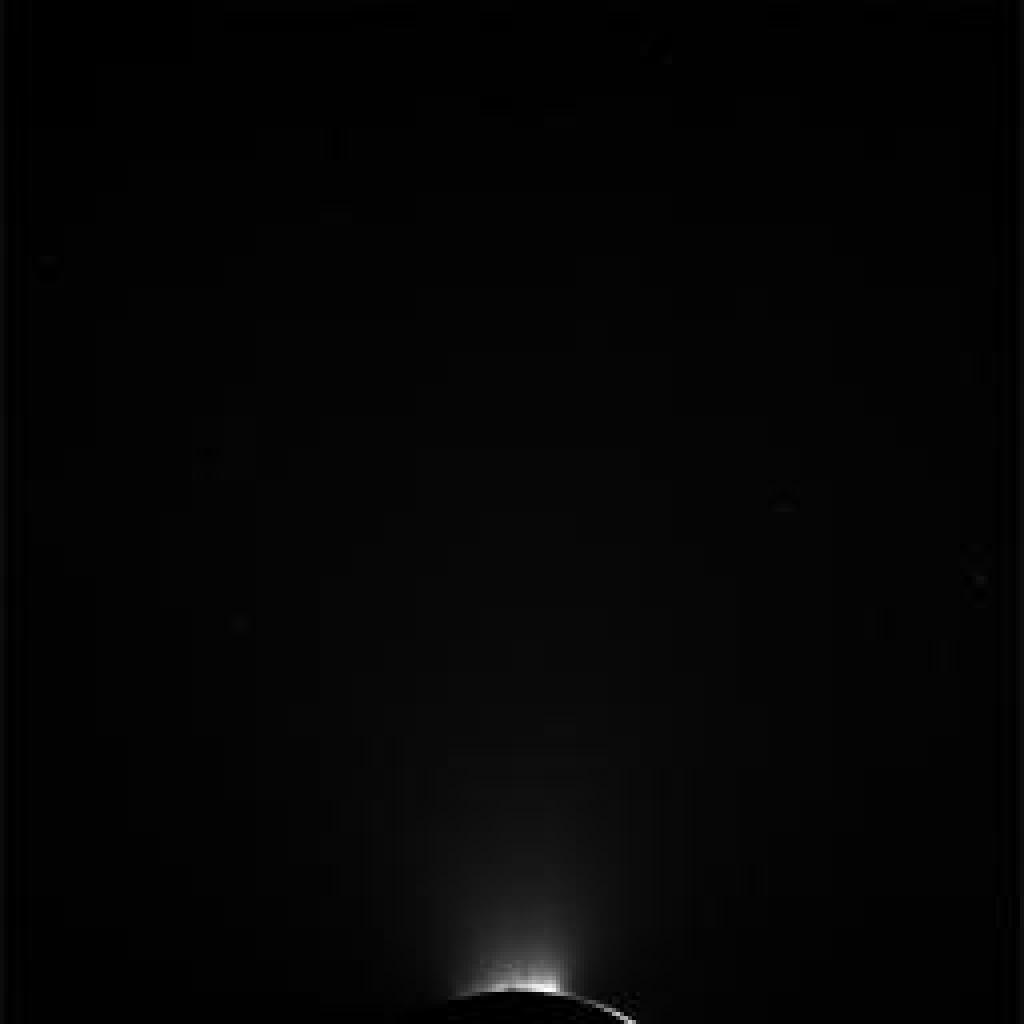plumes: (446, 884, 579, 994)
